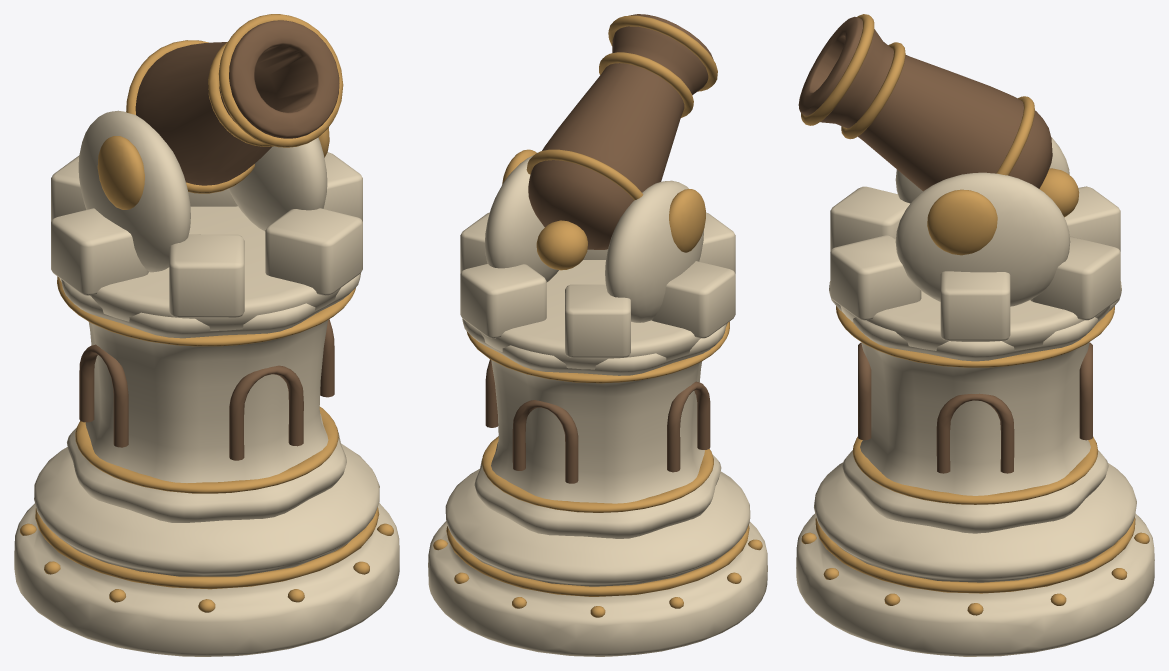
The model's file is cannon.glb.
3 views of the same model, side by side, from view 1: azimuth 30°, elevation 25°; view 2: azimuth 150°, elevation 25°; view 3: azimuth 270°, elevation 25° (orthographic). The views are drawn at different scales.
Visible parts, largest first — view 1: PIECE_Cannon_Sculpture, PIECE_Cannon_Base; view 2: PIECE_Cannon_Sculpture, PIECE_Cannon_Base; view 3: PIECE_Cannon_Sculpture, PIECE_Cannon_Base.
Part boxes in pixels (x1,y1,x2,y2): PIECE_Cannon_Sculpture: [51, 14, 362, 522]; PIECE_Cannon_Base: [14, 443, 399, 656]; PIECE_Cannon_Sculpture: [460, 14, 735, 538]; PIECE_Cannon_Base: [428, 469, 767, 656]; PIECE_Cannon_Sculpture: [798, 14, 1121, 533]; PIECE_Cannon_Base: [796, 462, 1154, 656].
Bounding box in the file's own units: 0.719 × 1.25 × 0.719.
